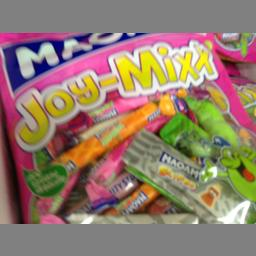candy: (0, 31, 254, 223)
